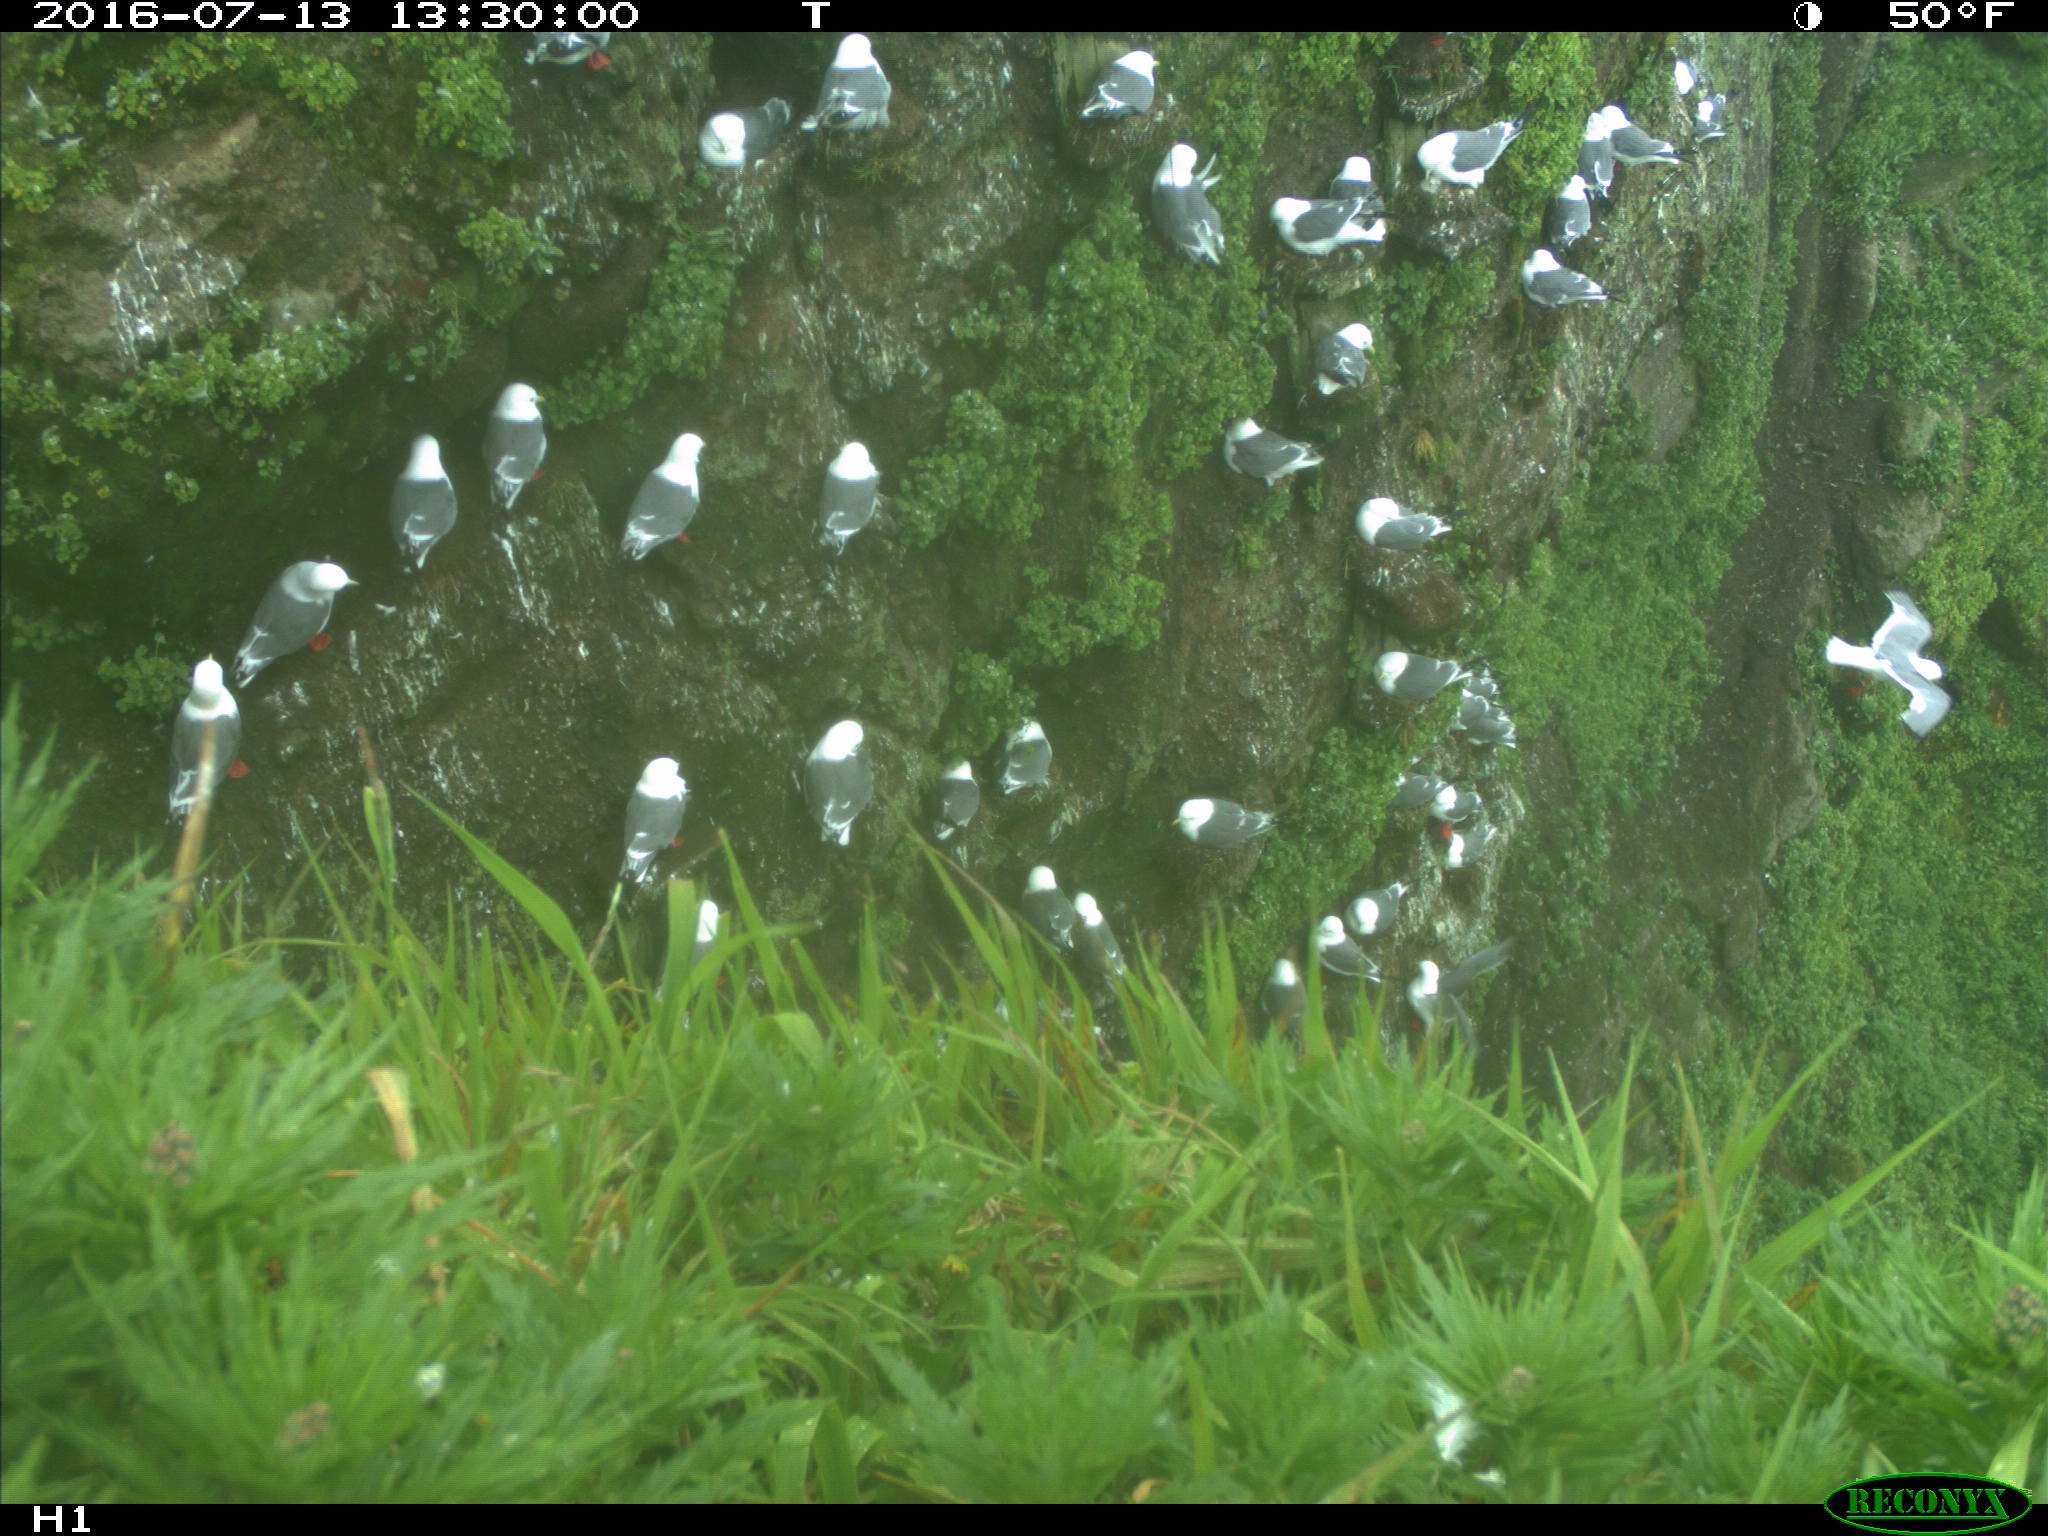Kittiwake: (1787, 561, 1972, 766), (140, 629, 284, 863), (216, 545, 390, 713), (606, 403, 734, 611), (360, 402, 485, 587), (769, 674, 895, 858), (466, 363, 576, 555), (1142, 127, 1256, 300), (608, 724, 700, 908), (1197, 402, 1342, 515), (1150, 766, 1301, 870), (790, 27, 919, 145), (793, 424, 895, 573), (1392, 921, 1530, 1029), (1003, 829, 1093, 992), (1414, 103, 1542, 216), (1268, 153, 1380, 273), (1287, 302, 1408, 411), (681, 82, 798, 190), (489, 19, 684, 82), (1345, 470, 1471, 565), (1061, 29, 1171, 131), (1356, 629, 1488, 713), (1074, 868, 1150, 1013), (1513, 229, 1622, 324), (1596, 86, 1709, 177), (921, 729, 985, 887), (1242, 929, 1326, 1049), (1295, 892, 1392, 995), (1321, 111, 1401, 229), (1443, 655, 1529, 757), (990, 694, 1068, 805), (1337, 858, 1426, 954), (1550, 161, 1634, 258), (1359, 733, 1450, 816), (672, 863, 737, 976), (1563, 102, 1638, 192), (1434, 779, 1514, 862), (1680, 94, 1771, 161), (1434, 821, 1509, 887), (1659, 40, 1734, 102)
